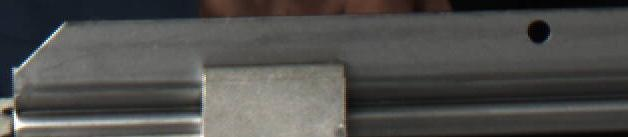cut: (10, 15, 187, 137)
holes: (525, 17, 552, 43)
